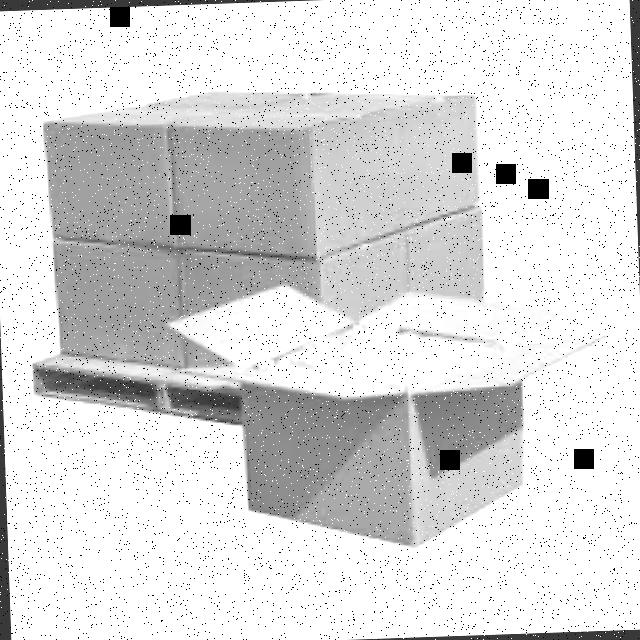cardboard_box: (192, 290, 610, 558), (186, 229, 429, 380), (278, 198, 506, 353), (174, 102, 390, 258), (284, 86, 501, 231), (120, 67, 288, 245), (29, 108, 239, 247), (50, 235, 227, 370)
